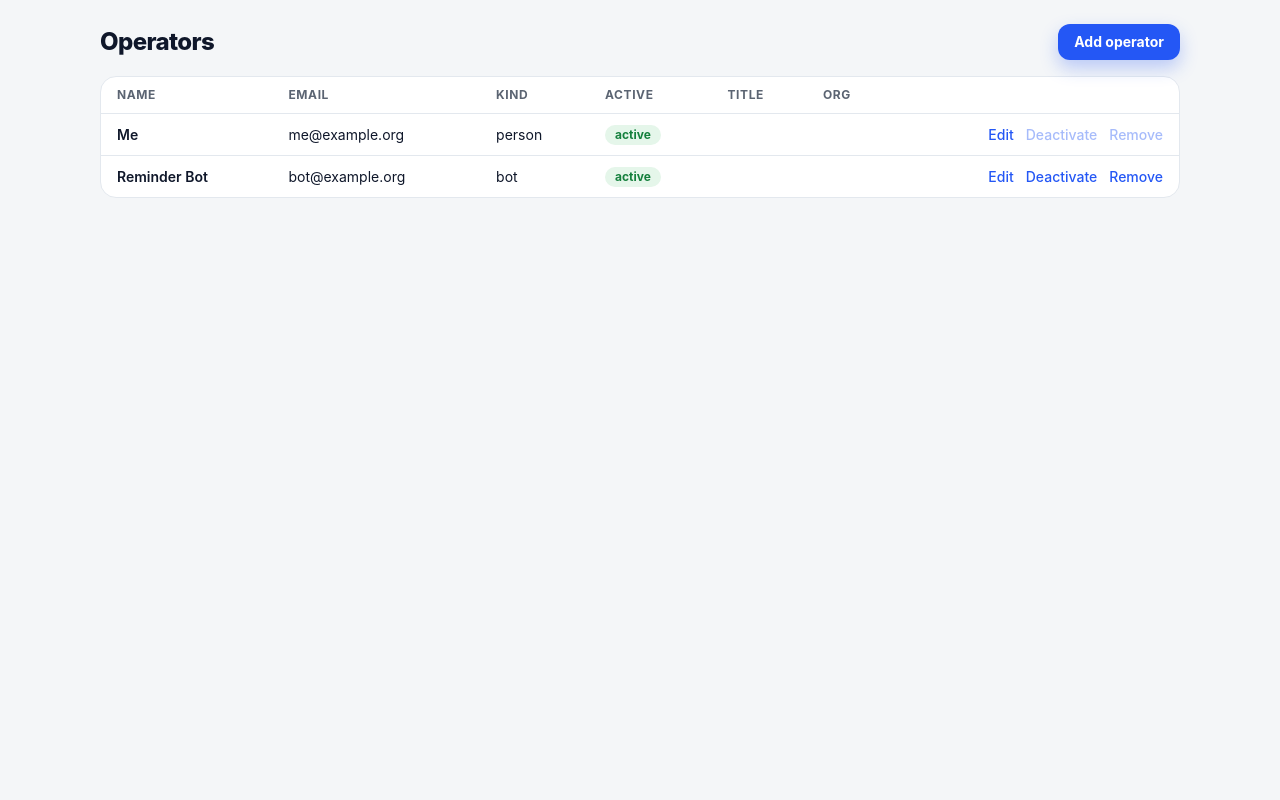
Test: OperatorsScreen › removing an operator requires confirmation and shows the commit subject
Expected: the text "Reminder Bot" is shown, [101, 156, 272, 197]
Click the button "Remove" in the row of "Reminder Bot" at (1136,176), box [1109, 166, 1163, 186]
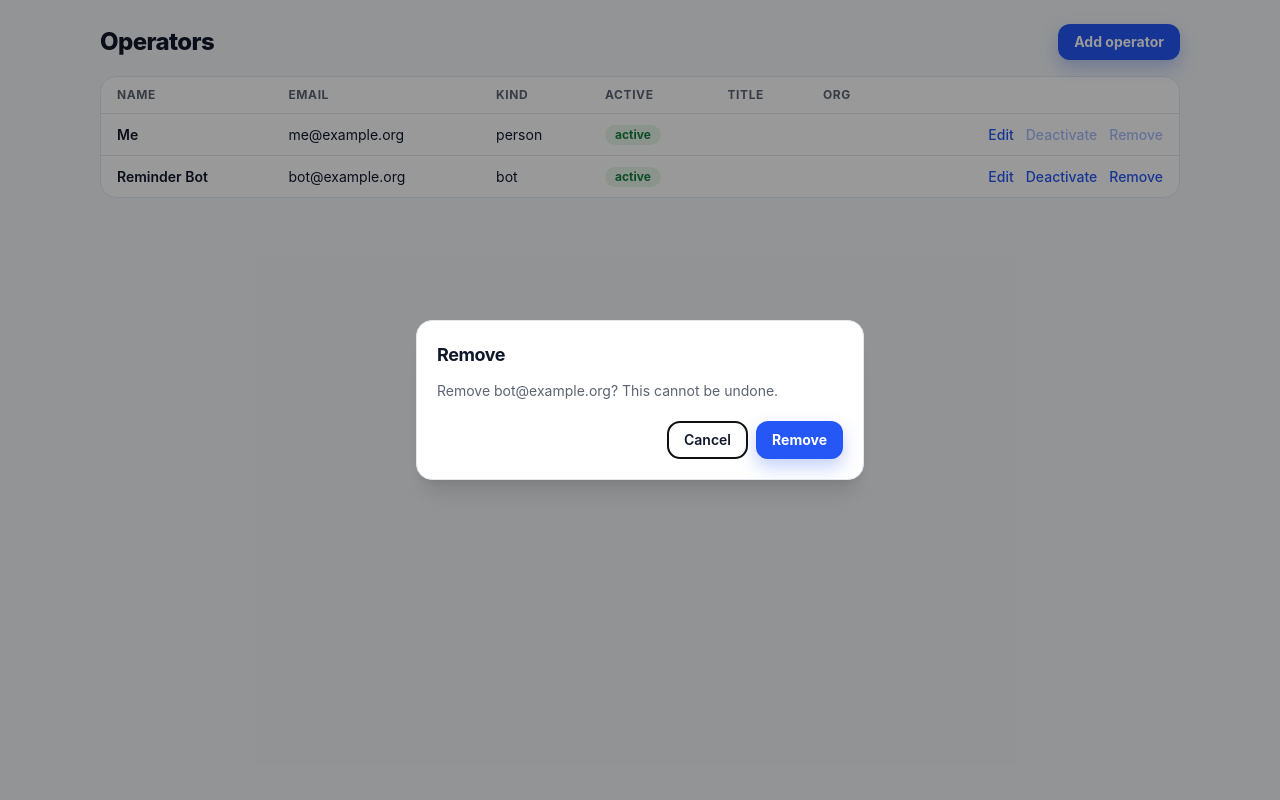
Result: the dialog is shown at [416, 320, 864, 480]
Click the button "Remove" at (800,440), box [756, 421, 843, 459]
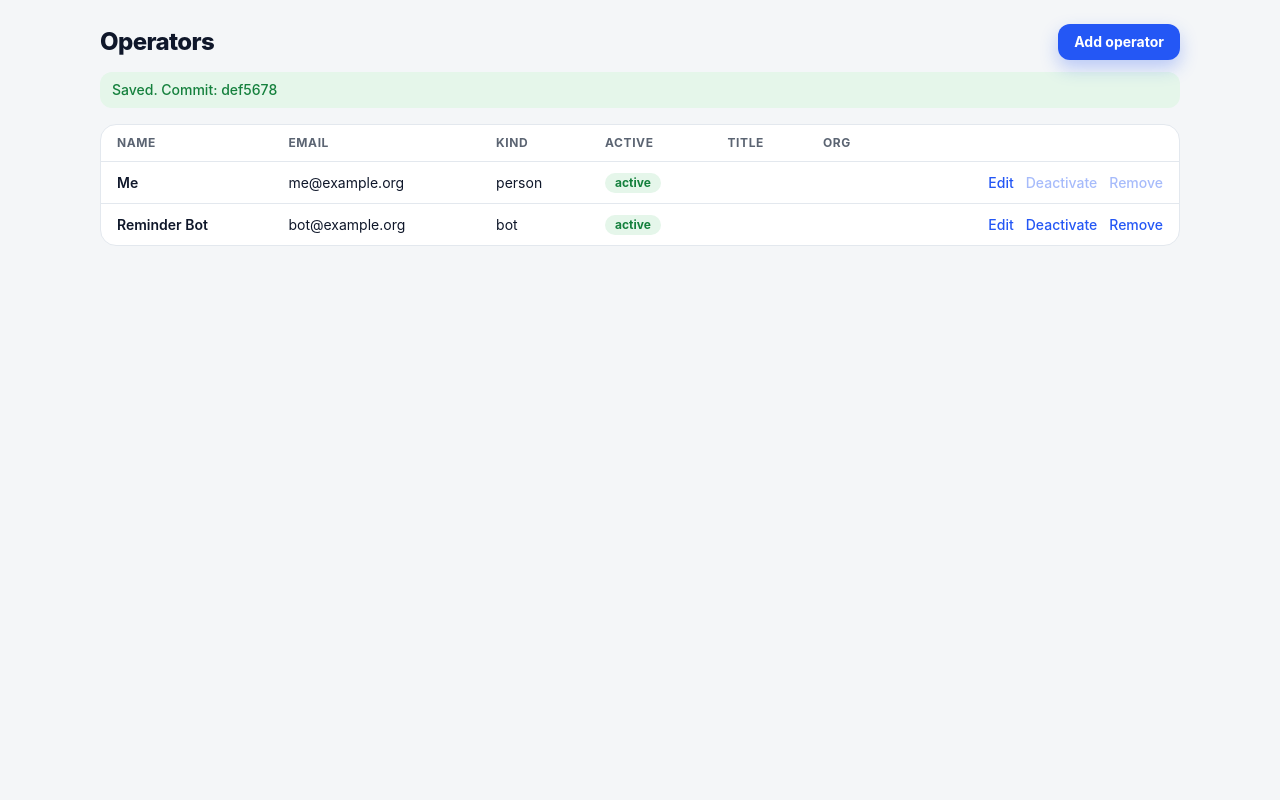
Result: the message shows "def5678" at [112, 81, 277, 98]
